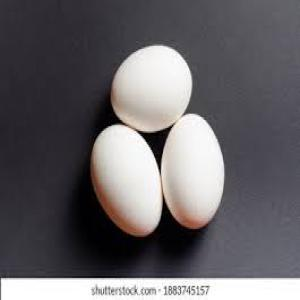Egg: (90, 125, 163, 238), (160, 110, 226, 230), (110, 44, 194, 135)
